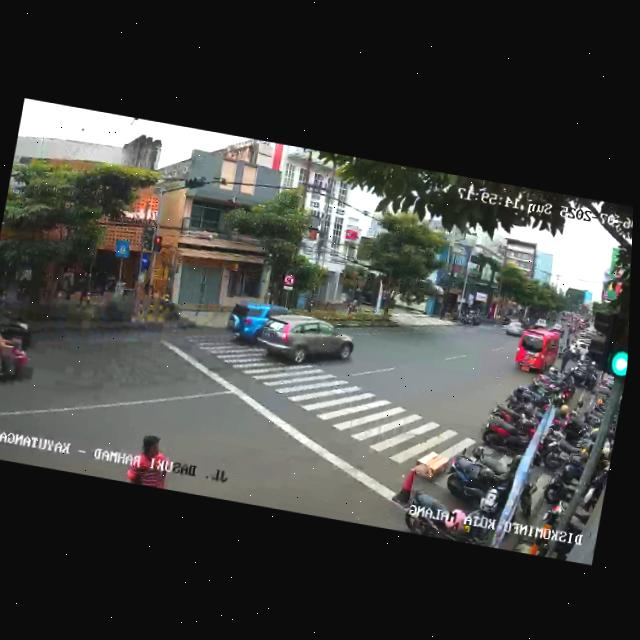car: (250, 305, 359, 377), (512, 325, 563, 378), (224, 293, 267, 346)
motorcycle: (0, 311, 43, 397)
person: (125, 429, 177, 489)
